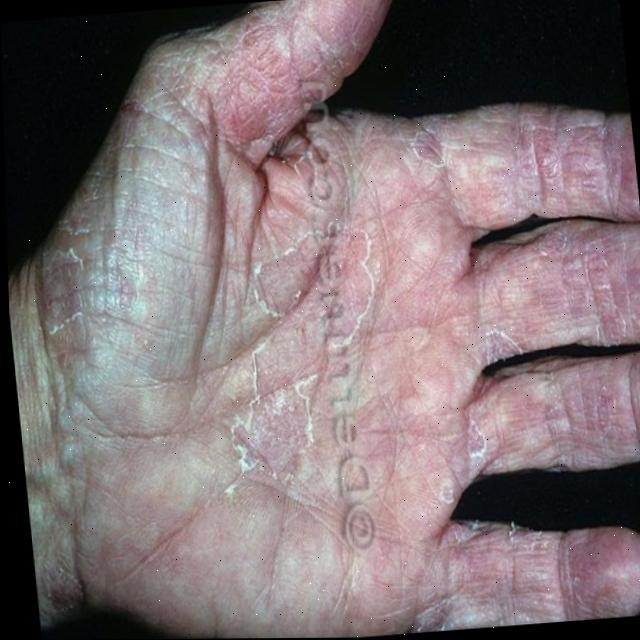Eczema: (140, 23, 640, 639)
